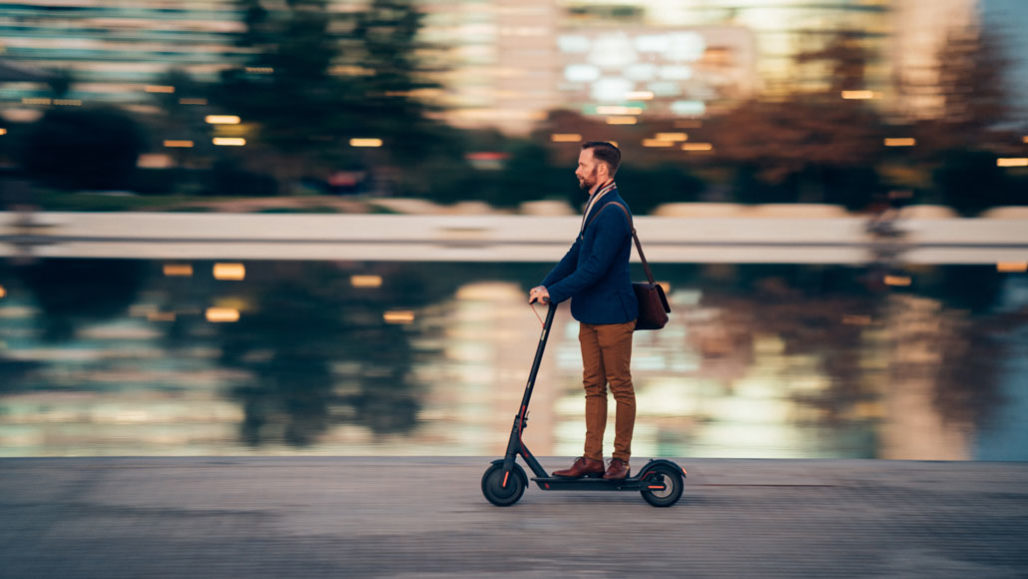scooter: (480, 289, 685, 513)
